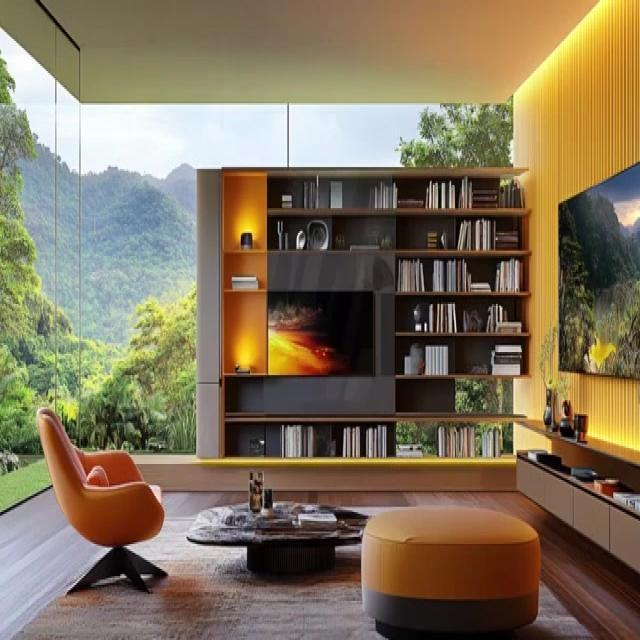obstacle: (219, 165, 532, 459), (36, 406, 167, 594), (360, 504, 540, 638), (186, 500, 372, 574)
